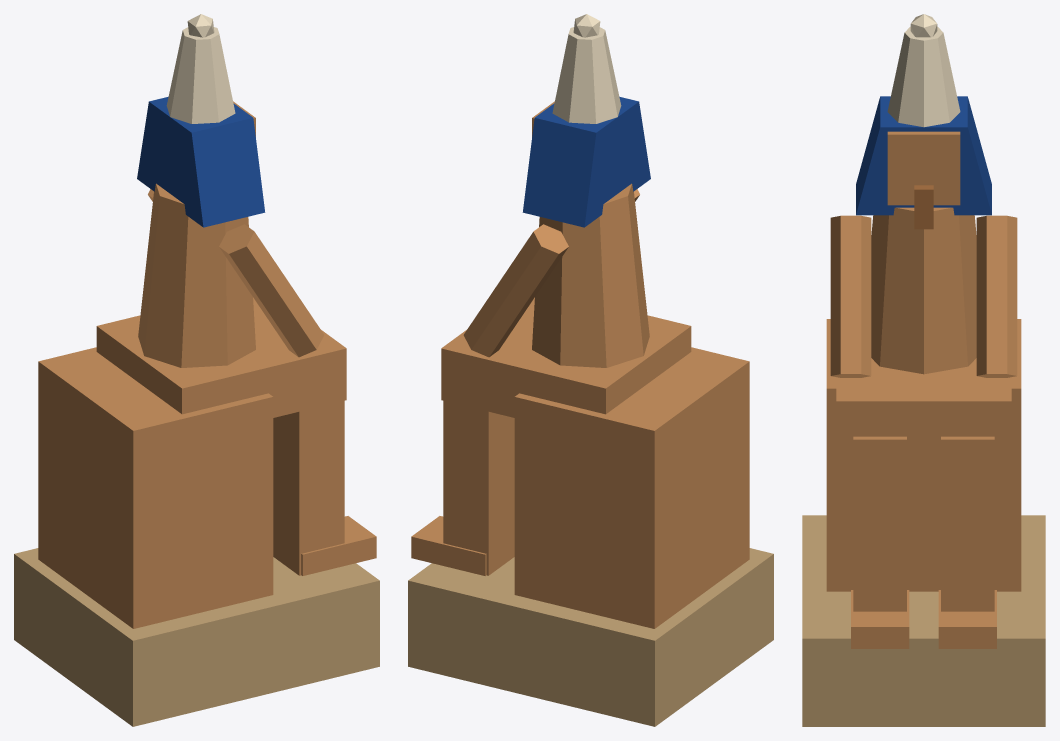
Rendered from staty_farao.glb.
3 renders of one model, left to right at view 1: azimuth 30°, elevation 25°; view 2: azimuth 150°, elevation 25°; view 3: azimuth 270°, elevation 25°, orthographic. The views are drawn at different scales.
Visible parts, largest first — view 1: staty_farao; view 2: staty_farao; view 3: staty_farao.
Part boxes in pixels (box(x1,y1,x2,y2)): staty_farao: box(14, 14, 379, 726); staty_farao: box(408, 14, 773, 726); staty_farao: box(802, 14, 1045, 726).
Size of the model in its own units: 6.5 by 14.82 by 5.
